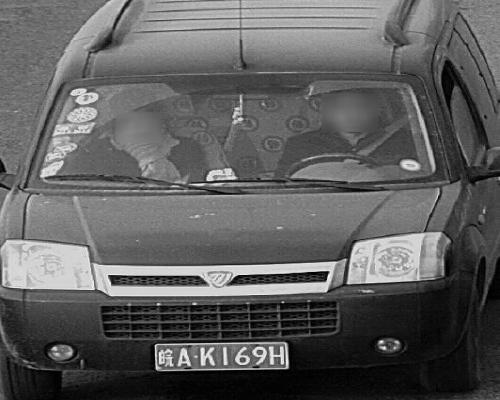Carplate: (147, 337, 299, 380)
